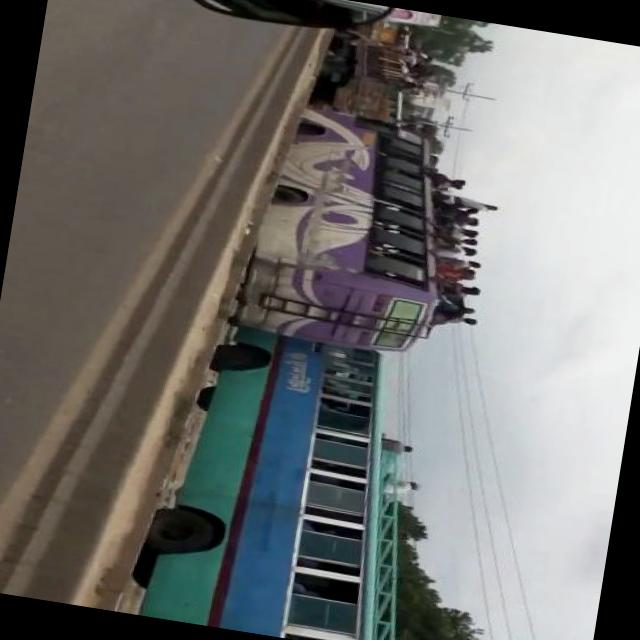bus: (130, 318, 452, 640), (237, 99, 472, 365)
truck: (306, 26, 408, 124)
